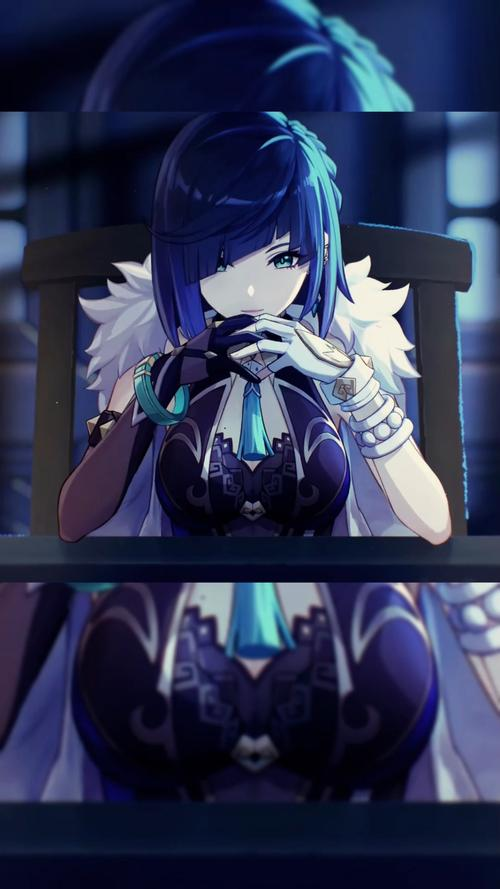夜兰: (57, 113, 455, 801)
